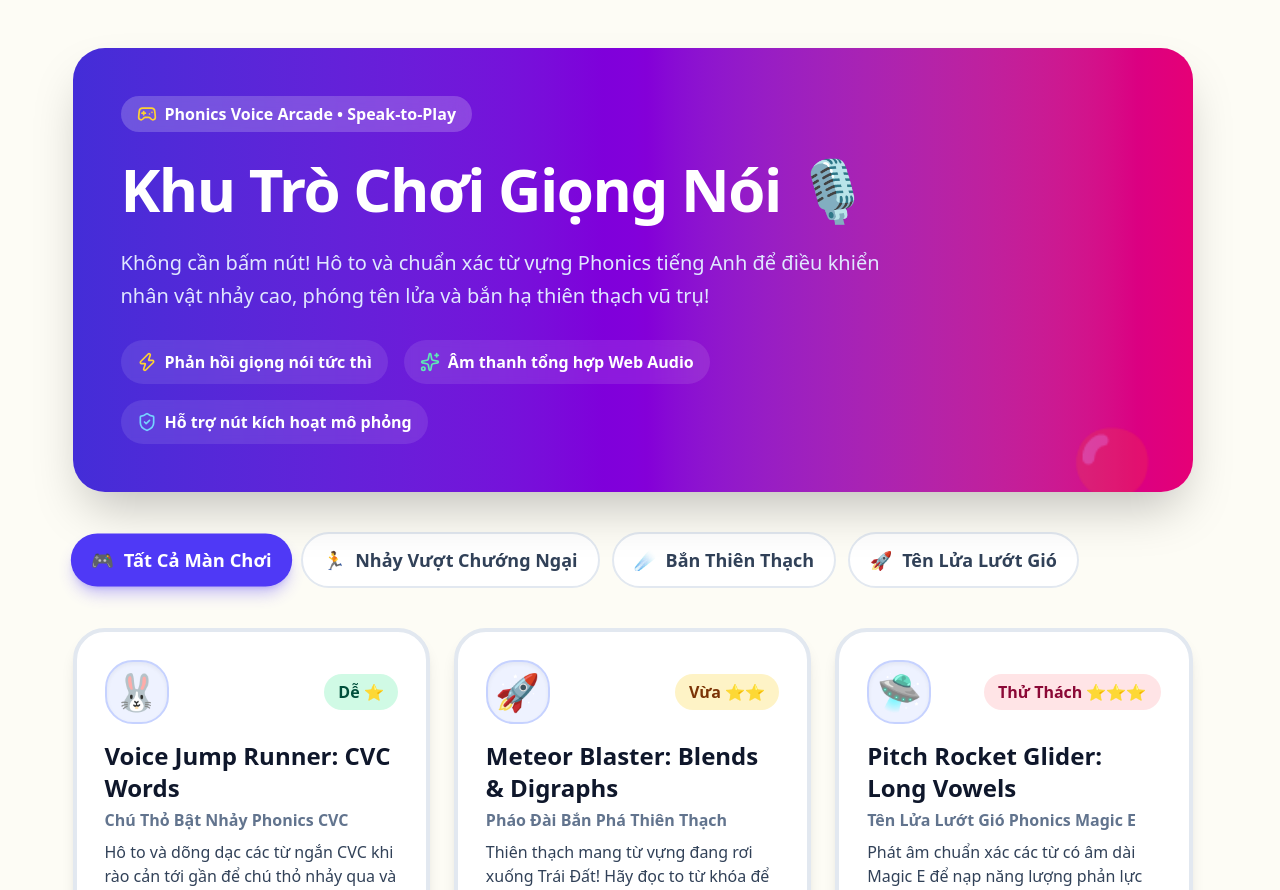
Test: Voice Arcade Components › VoiceArcadeHub › renders all stages and filters by selected game mode
Expected: the heading "Khu Trò Chơi Giọng Nói 🎙️" is shown, 120,152 -> 888,227
Expected: the heading "Voice Jump Runner: CVC Words" is shown, 104,740 -> 398,804
Filter by Meteor Blaster
Click the button "☄️ Bắn Thiên Thạch" at (724, 560), box 612,532 -> 836,588
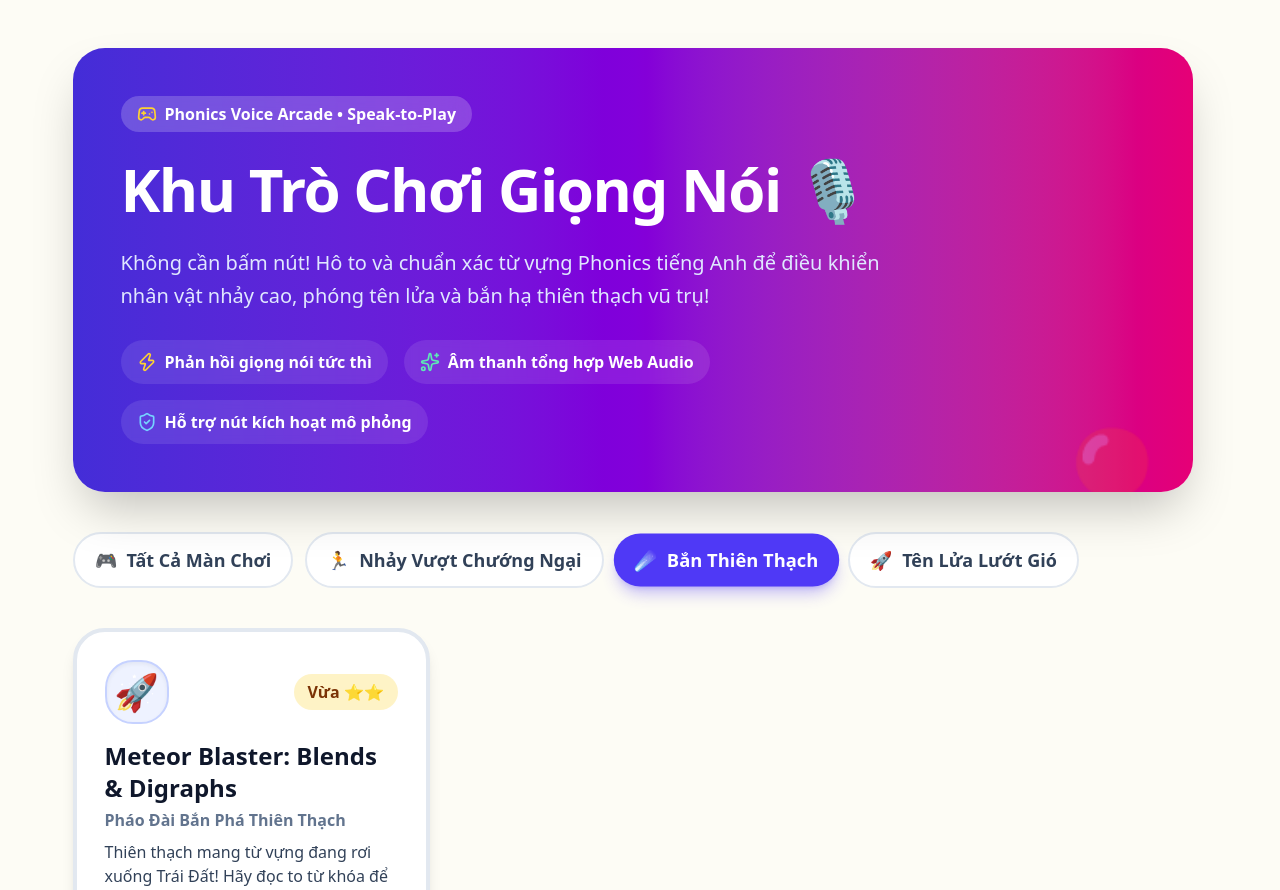
Expected: the heading "Meteor Blaster: Blends & Digraphs" is shown, 104,740 -> 398,804
Result: the heading "Voice Jump Runner: CVC Words" is gone
Result: the heading "Pitch Rocket Glider: Long Vowels" is gone
